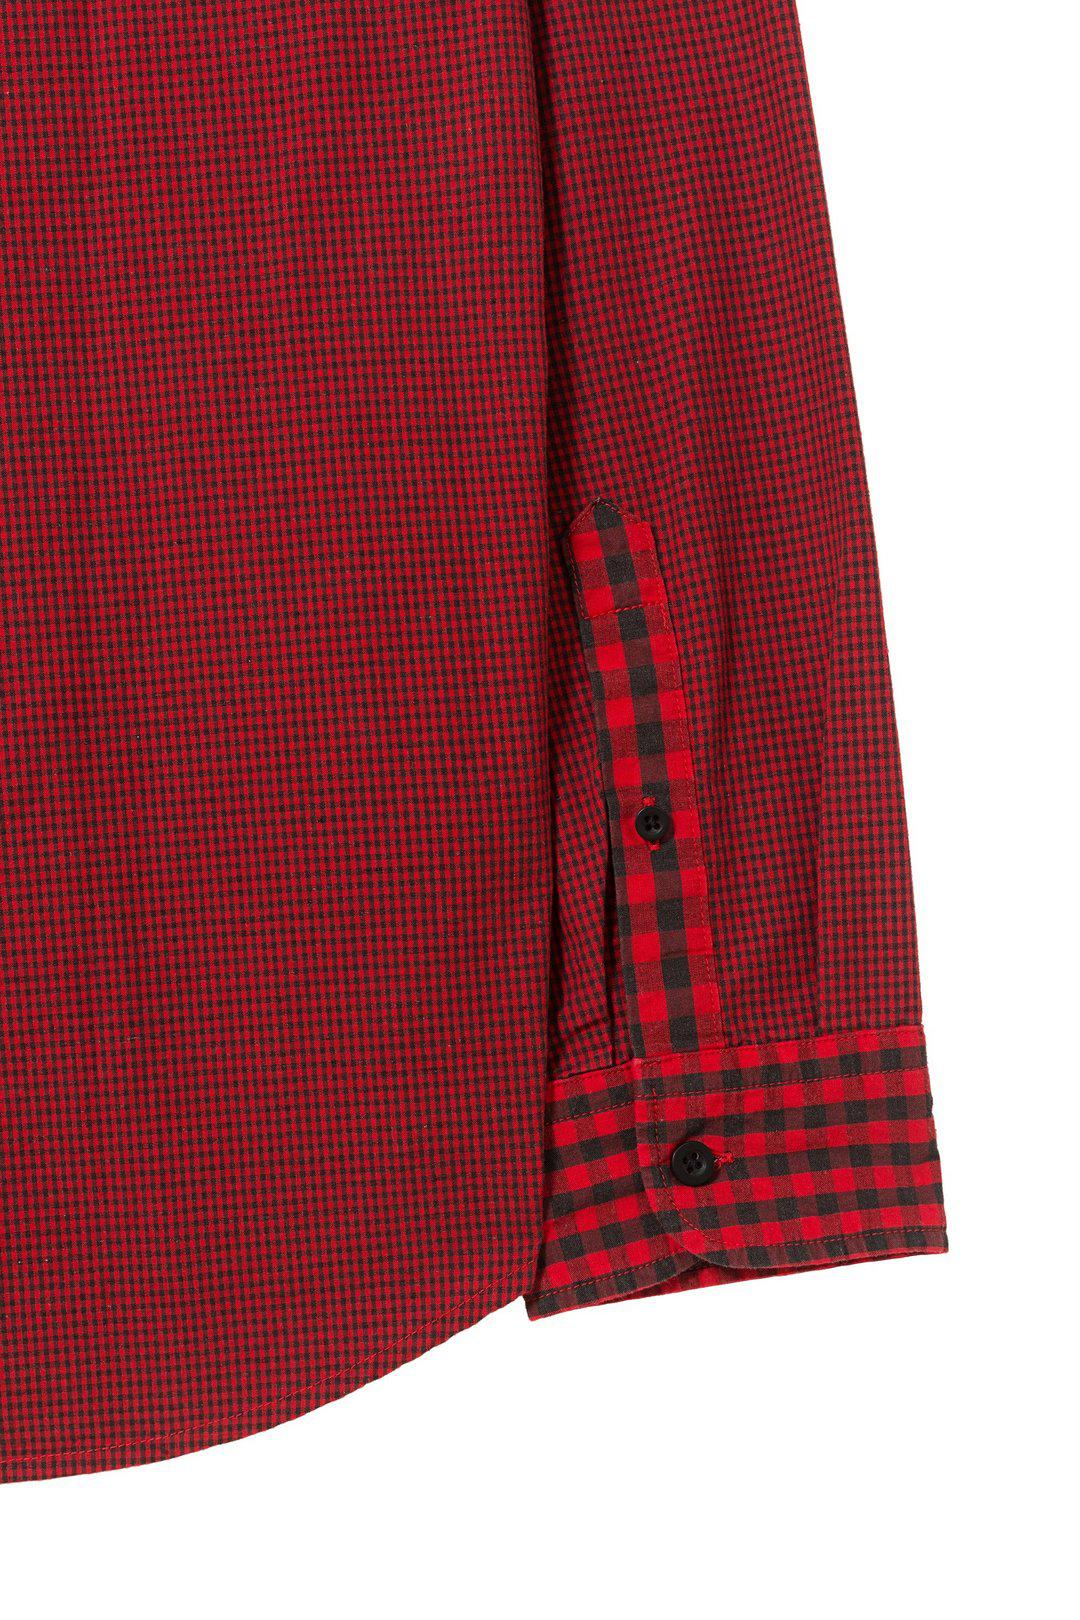teeshirt: (1, 2, 976, 1510)
